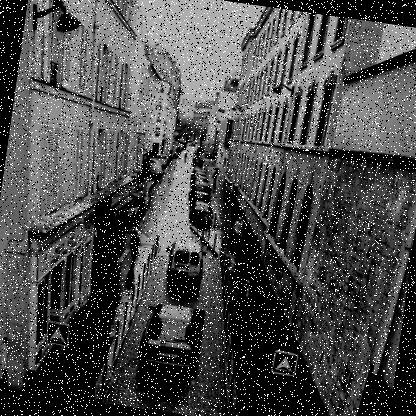Car: (122, 300, 206, 378), (184, 152, 221, 226), (160, 236, 208, 284), (148, 153, 168, 177)
